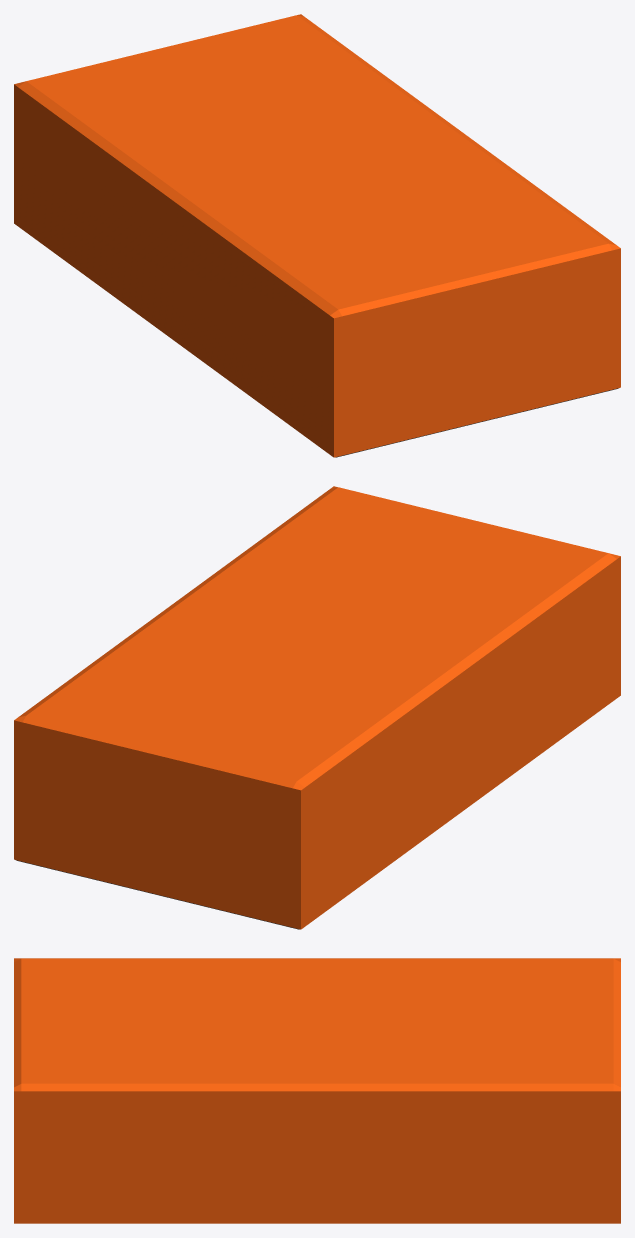
File: Map 2.fbx
3 renders of one model, top to bottom at view 1: azimuth 30°, elevation 25°; view 2: azimuth 150°, elevation 25°; view 3: azimuth 270°, elevation 25°, orthographic. The views are drawn at different scales.
Visible parts, largest first — view 1: floors; view 2: floors; view 3: floors.
Boxes of the visible parts, x1,y1,x2,y2 form: floors: [14, 14, 620, 457]; floors: [14, 486, 620, 929]; floors: [14, 958, 620, 1223].
Size of the model in its own units: 8.5 by 4.1 by 16.4.
